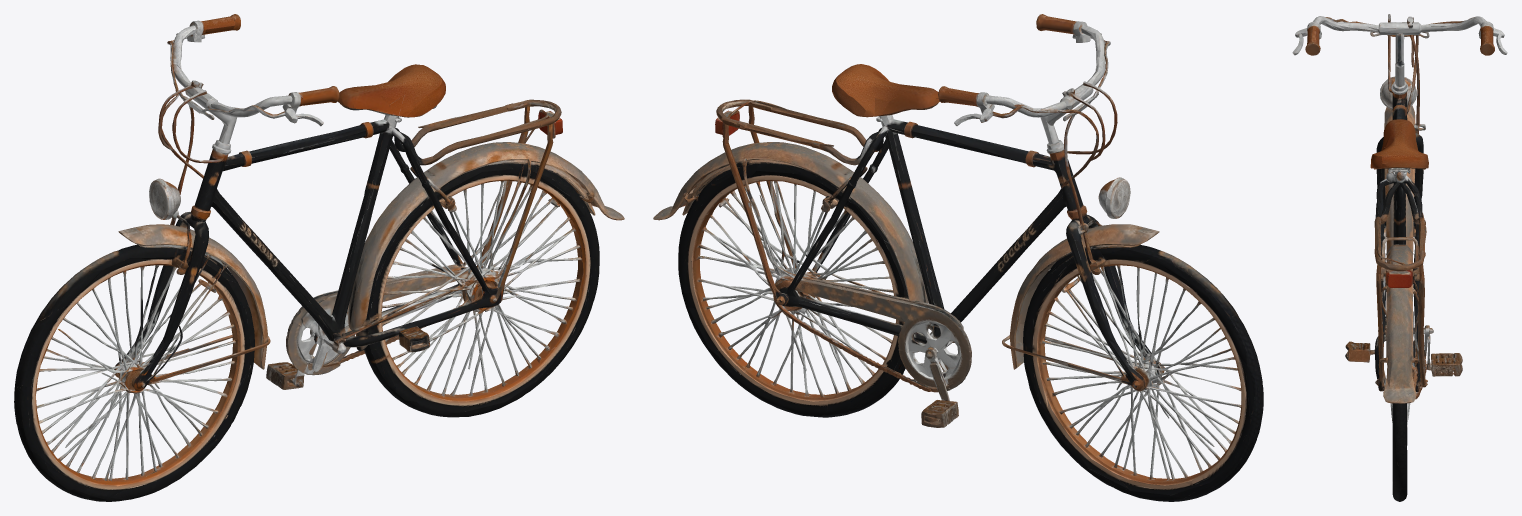
File: bicycle_roadster.glb
3 views of the same model, side by side, from view 1: azimuth 30°, elevation 25°; view 2: azimuth 150°, elevation 25°; view 3: azimuth 270°, elevation 25° (orthographic). The views are drawn at different scales.
Size of the model in its own units: 1.9 by 1.25 by 0.6611.
1 material, 1 textured.
